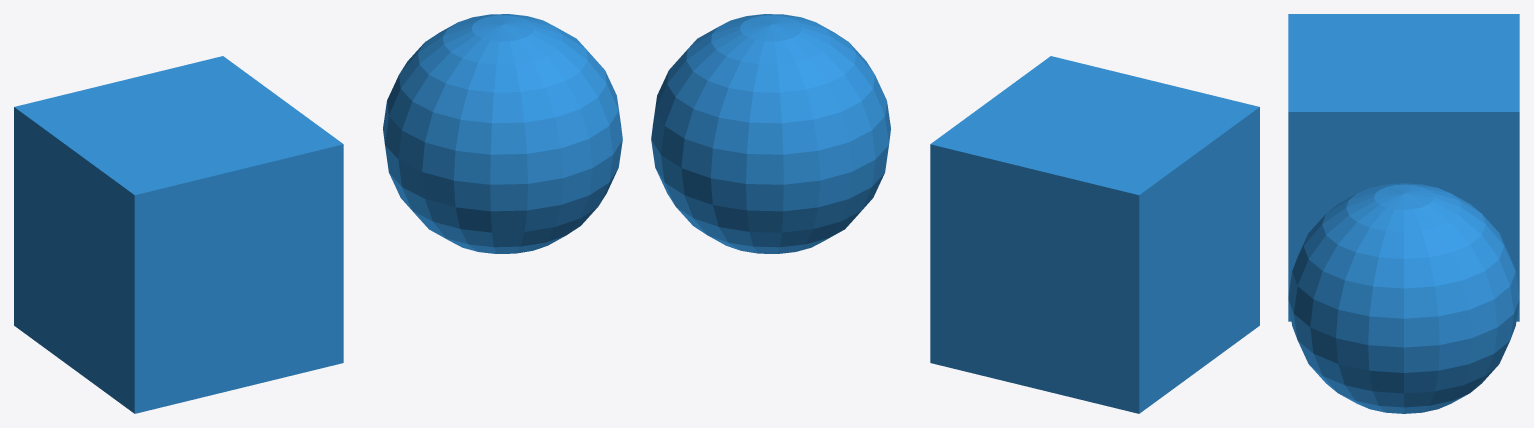
File: sample.obj
The picture shows the model from 3 angles, left to right: view 1: azimuth 30°, elevation 25°; view 2: azimuth 150°, elevation 25°; view 3: azimuth 270°, elevation 25°; orthographic projection. The views are drawn at different scales.
Visible parts, largest first — view 1: TexturedCube, ShadedSphere; view 2: TexturedCube, ShadedSphere; view 3: TexturedCube, ShadedSphere.
Part boxes in pixels (left/top/right/bottom): TexturedCube: left=14, top=56, right=343, bottom=413; ShadedSphere: left=383, top=14, right=622, bottom=253; TexturedCube: left=930, top=56, right=1259, bottom=413; ShadedSphere: left=651, top=14, right=890, bottom=253; TexturedCube: left=1288, top=14, right=1519, bottom=321; ShadedSphere: left=1288, top=183, right=1519, bottom=413.
Bounding box in the file's own units: 5.1 × 2.2 × 2.
